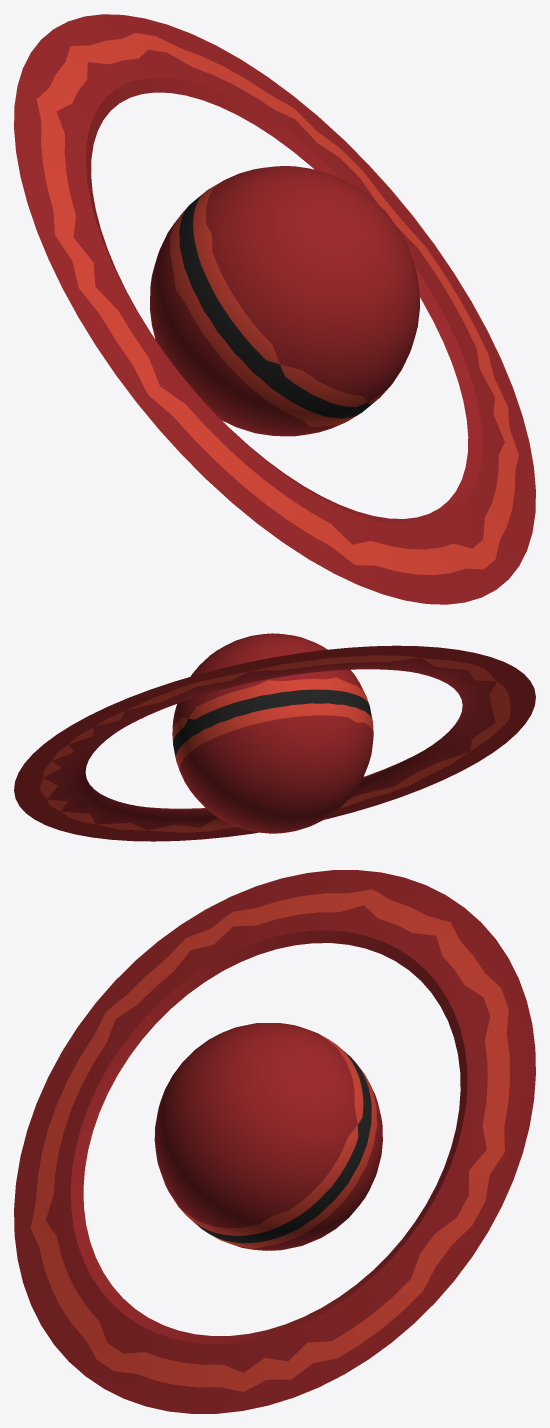
Rendered from Planet-hKZtOOMadH.glb.
The picture shows the model from 3 angles, top to bottom: view 1: azimuth 30°, elevation 25°; view 2: azimuth 150°, elevation 25°; view 3: azimuth 270°, elevation 25°; orthographic projection. The views are drawn at different scales.
Visible parts, largest first — view 1: Planet_10; view 2: Planet_10; view 3: Planet_10.
Part boxes in pixels (x1,y1,x2,y2): Planet_10: (14,14,535,604); Planet_10: (14,633,535,841); Planet_10: (14,870,535,1413).
Size of the model in its own units: 5.74 by 4.68 by 5.74.
Materials: 1 (1 with a texture image).
